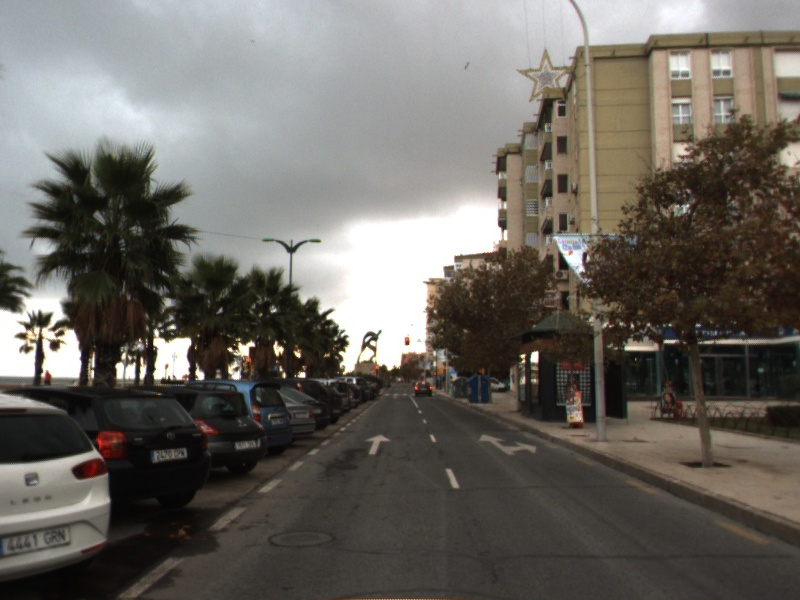STRAIGHT: (363, 432, 393, 456)
STRAIGHT_RIGHT: (477, 432, 538, 457)
